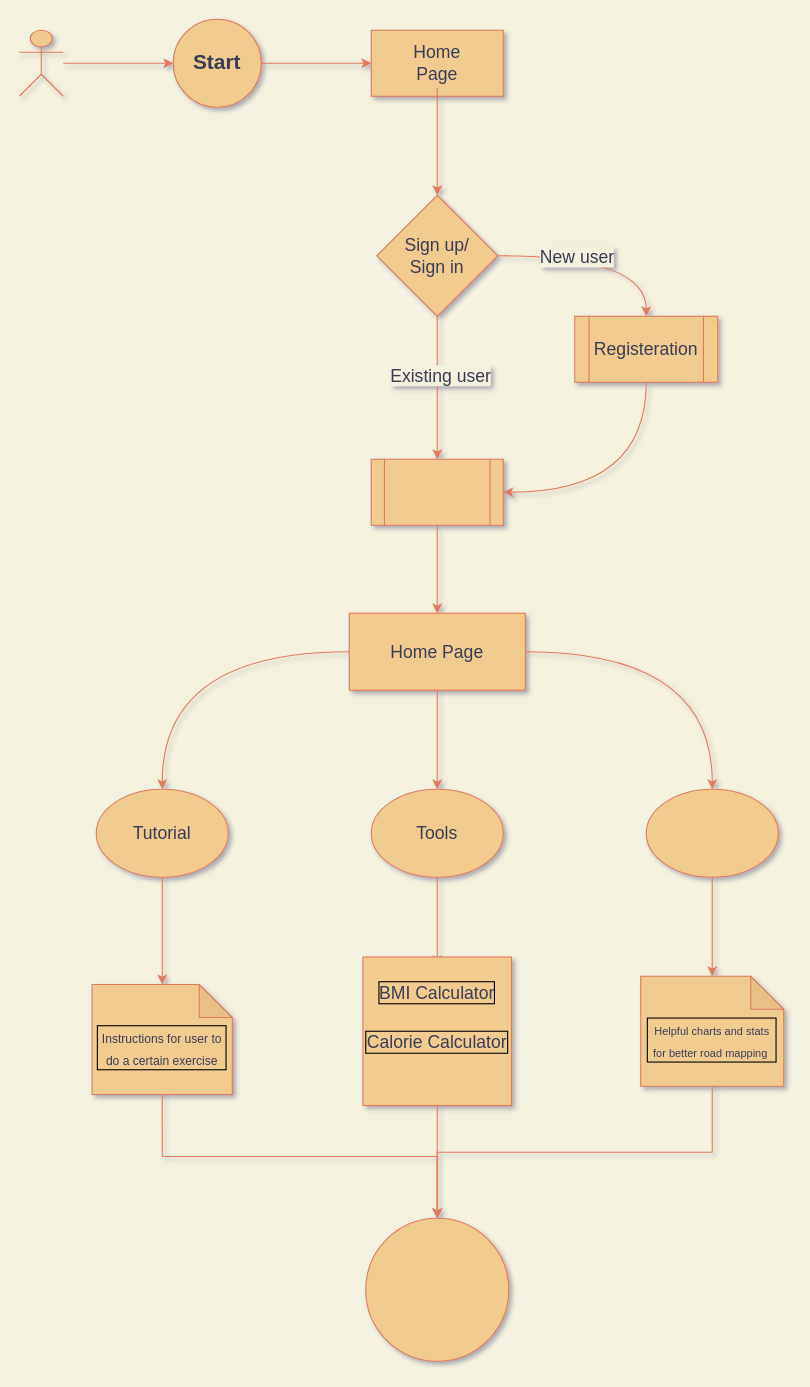
This 810x1387 diagram has some shape labels left out. The shapes that lost their labels are listed below. From the top down, each one's centre as x and y in pixels, then its label:
(40,62): User
(436,491): Login
(711,832): Planning
(437,1289): Back to home page
